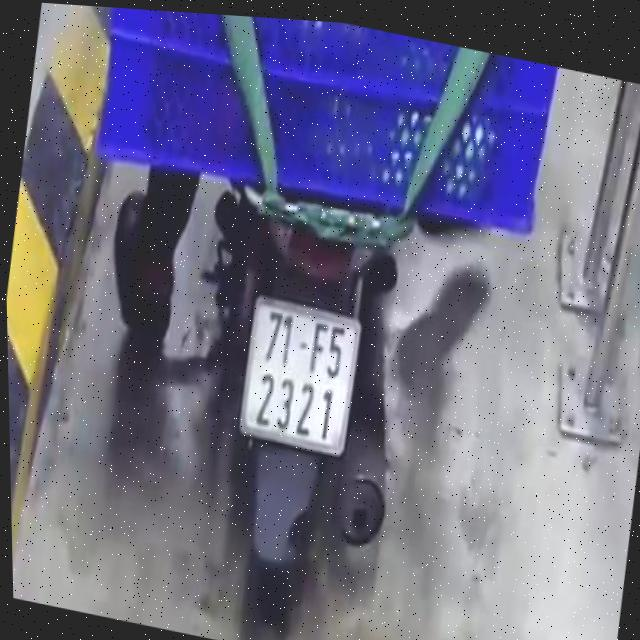motorcycle: (147, 165, 447, 640)
plate: (223, 283, 374, 463)
